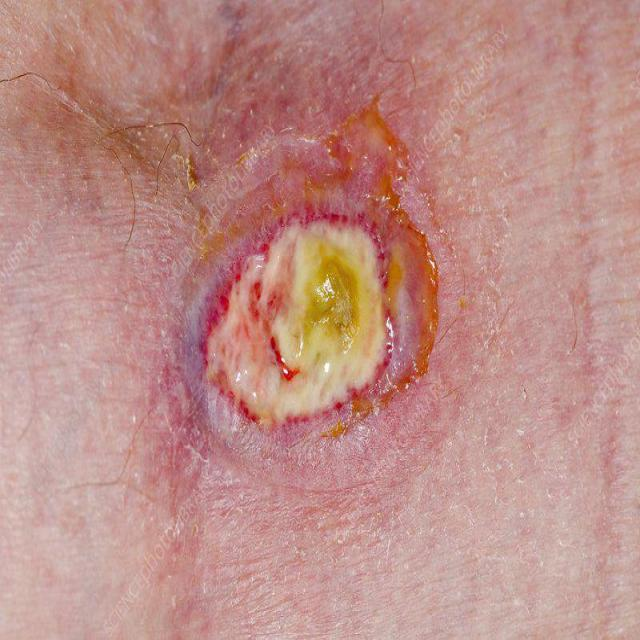Unstageable: (199, 210, 399, 421)
